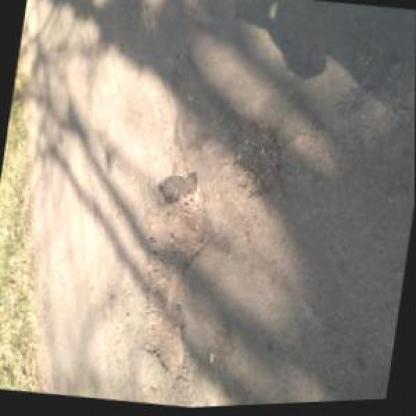pothole: (125, 177, 220, 387), (222, 115, 287, 205)
